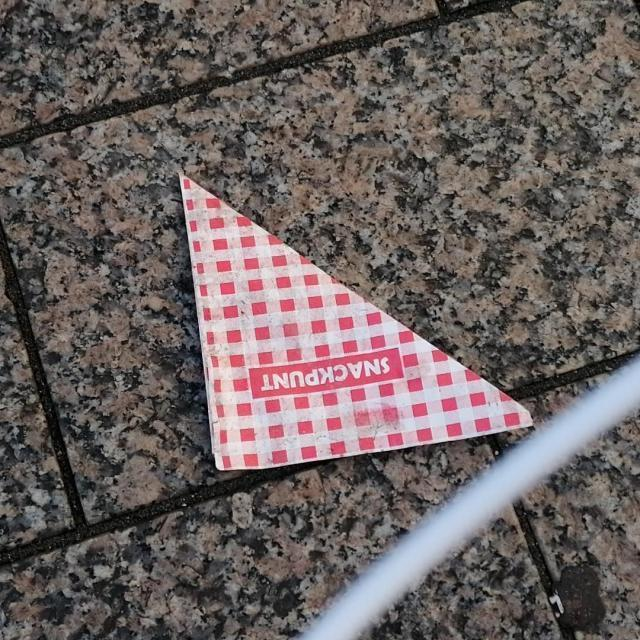Paper: (172, 168, 540, 478)
